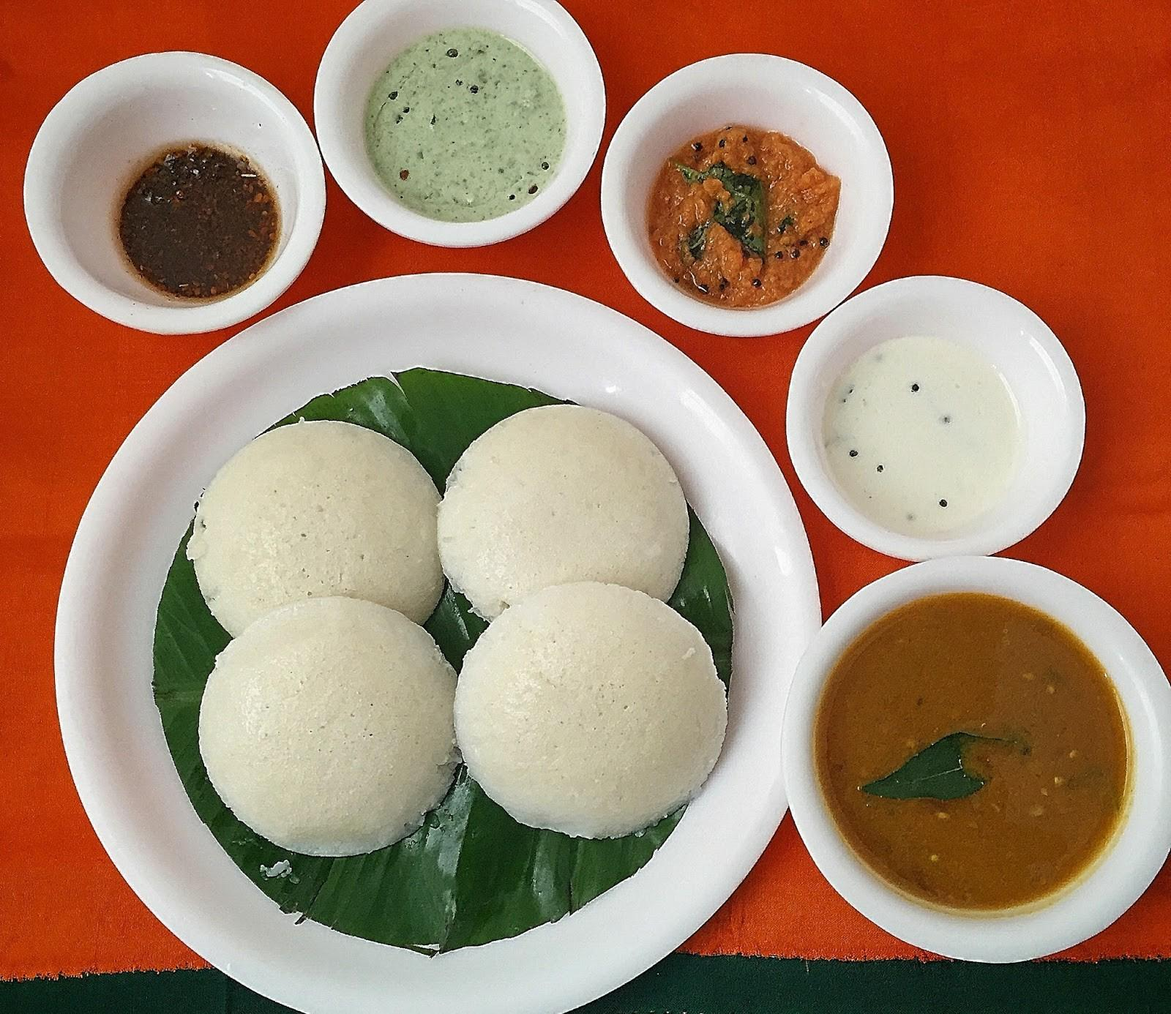CoconutChutney: (824, 337, 1027, 544)
GreenChutney: (368, 26, 563, 225)
Idli: (458, 583, 729, 843), (198, 599, 461, 852), (440, 401, 687, 640), (197, 423, 449, 649)
